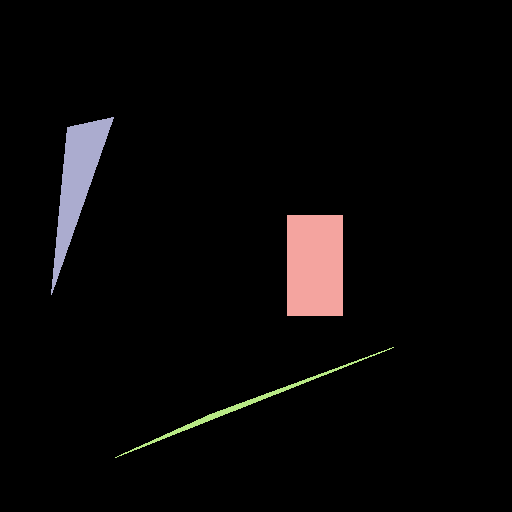rectangle: (287, 215, 342, 315)
triangle: (51, 117, 113, 294)
